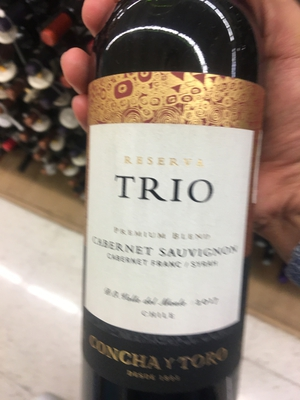trio cabernet sauvignon: (73, 16, 269, 400)
